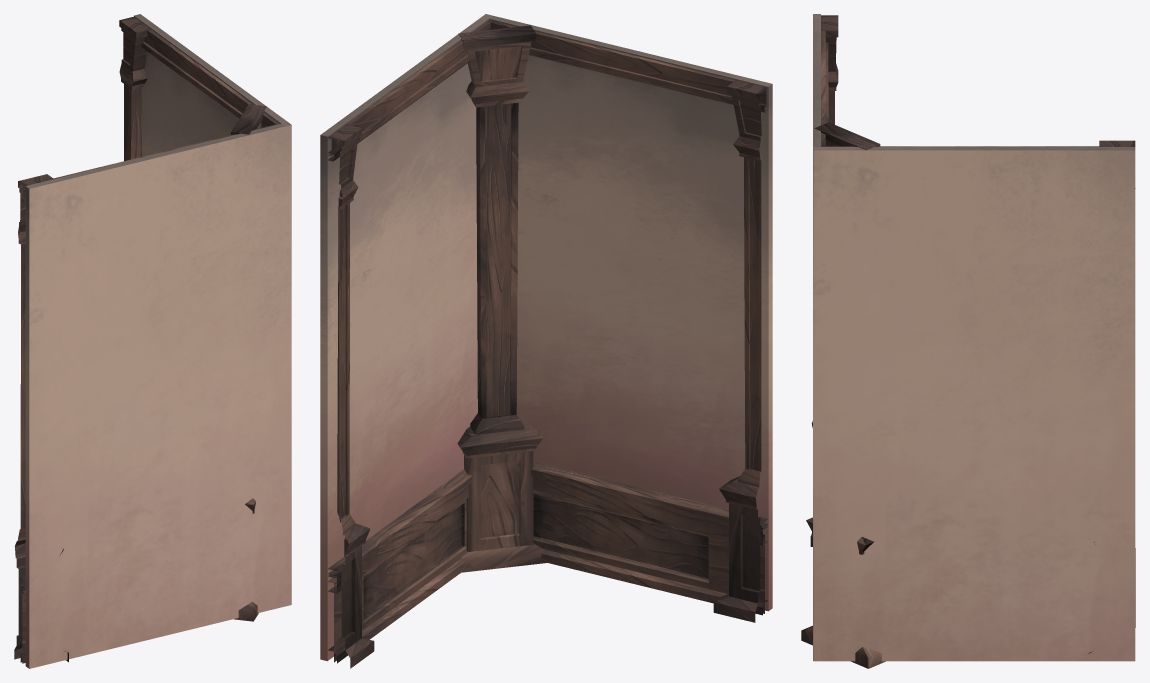
The model's file is ContextIII_Wall_InnerCorner.fbx.
The picture shows the model from 3 angles, left to right: view 1: azimuth 30°, elevation 25°; view 2: azimuth 150°, elevation 25°; view 3: azimuth 270°, elevation 25°; orthographic projection. The views are drawn at different scales.
Visible parts, largest first — view 1: Inner_Corner_Wall; view 2: Inner_Corner_Wall; view 3: Inner_Corner_Wall.
Boxes of the visible parts, x1,y1,x2,y2 form: Inner_Corner_Wall: (14, 14, 291, 668); Inner_Corner_Wall: (320, 14, 772, 668); Inner_Corner_Wall: (801, 14, 1135, 668).
Size of the model in its own units: 0.6255 by 1.06 by 0.6223.
